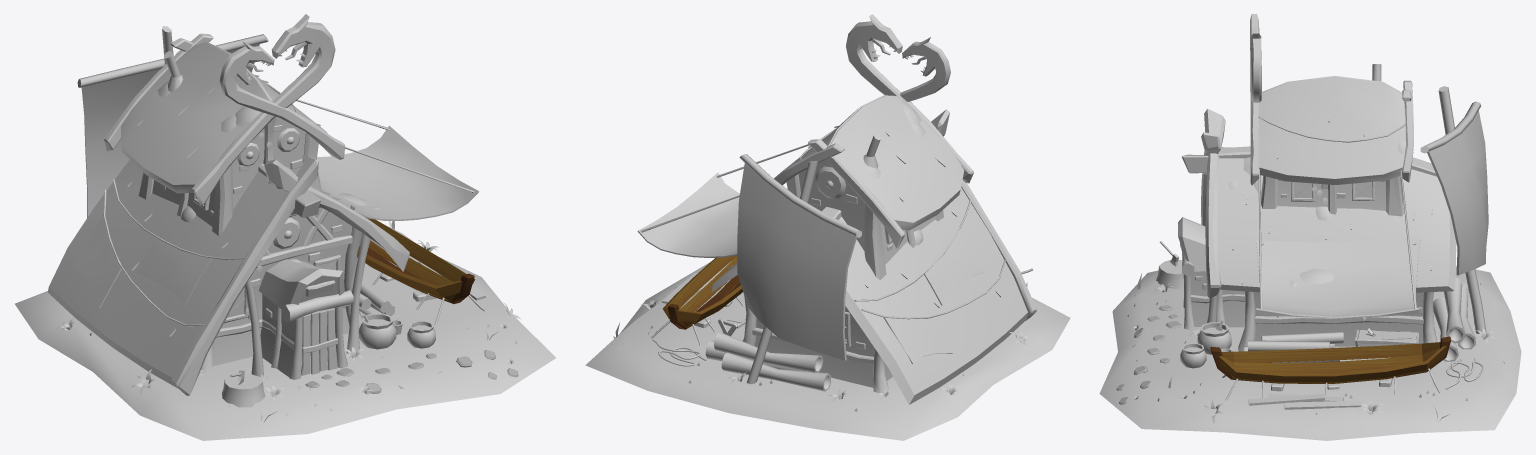
Rendered from House.fbx.
3 renders of one model, left to right at view 1: azimuth 30°, elevation 25°; view 2: azimuth 150°, elevation 25°; view 3: azimuth 270°, elevation 25°, orthographic. The views are drawn at different scales.
Parts seen in each view (by area): view 1: pCube1, pasted__pCube6, pasted__pCube10, pasted__pCube2, polySurface4, polySurface22, pasted__pCube11, pasted__pCube165, pasted__pCube1, polySurface28, pCube56, pCube147 (+18 smaller); view 2: pCube1, pasted__pCube6, polySurface4, pasted__pCube10, pasted__pCube2, pasted__pCube165, polySurface22, pasted__pCube1, pCube147, pasted__pCube9, pCube148, pCylinder56 (+10 smaller); view 3: pCube1, pasted__pCube7, pasted__pCube10, pasted__pCube2, pasted__pCube165, polySurface4, pasted__pCube1, pasted__pCube12, pasted__pCube9, pCube46, polySurface5, pCube43 (+27 smaller).
Part boxes in pixels (bbox=[...]): pCube1: bbox=[15, 226, 555, 440]; pasted__pCube6: bbox=[47, 160, 285, 388]; pasted__pCube10: bbox=[121, 41, 327, 193]; pasted__pCube2: bbox=[317, 125, 478, 220]; polySurface4: bbox=[81, 44, 259, 217]; polySurface22: bbox=[191, 14, 335, 205]; pasted__pCube11: bbox=[171, 156, 318, 395]; pasted__pCube165: bbox=[357, 217, 475, 303]; pasted__pCube1: bbox=[212, 207, 352, 366]; polySurface28: bbox=[219, 41, 345, 159]; pCube56: bbox=[258, 259, 344, 308]; pCube147: bbox=[136, 238, 212, 305]; pCube1: bbox=[585, 258, 1070, 440]; pasted__pCube6: bbox=[839, 188, 1027, 404]; polySurface4: bbox=[737, 163, 856, 360]; pasted__pCube10: bbox=[785, 95, 964, 230]; pasted__pCube2: bbox=[637, 172, 739, 257]; pasted__pCube165: bbox=[662, 255, 742, 329]; polySurface22: bbox=[846, 14, 973, 183]; pasted__pCube1: bbox=[755, 306, 892, 387]; pCube147: bbox=[924, 230, 983, 305]; pasted__pCube9: bbox=[798, 160, 935, 264]; pCube148: bbox=[883, 317, 952, 363]; pCylinder56: bbox=[721, 352, 830, 391]; pCube1: bbox=[1099, 265, 1521, 440]; pasted__pCube7: bbox=[1217, 158, 1456, 292]; pasted__pCube10: bbox=[1259, 76, 1405, 184]; pasted__pCube2: bbox=[1256, 238, 1420, 318]; pasted__pCube165: bbox=[1210, 336, 1451, 383]; polySurface4: bbox=[1427, 110, 1488, 275]; pasted__pCube1: bbox=[1253, 292, 1423, 346]; pasted__pCube12: bbox=[1204, 108, 1225, 298]; pasted__pCube9: bbox=[1277, 181, 1385, 210]; pCube46: bbox=[1191, 271, 1245, 327]; polySurface5: bbox=[1438, 86, 1486, 333]; pCube43: bbox=[1254, 315, 1423, 324].
Size of the model in its own units: 19.69 by 16.19 by 19.78.
